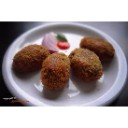cutlet: (69, 46, 102, 82), (42, 52, 70, 89), (13, 45, 43, 77), (79, 37, 115, 59)
